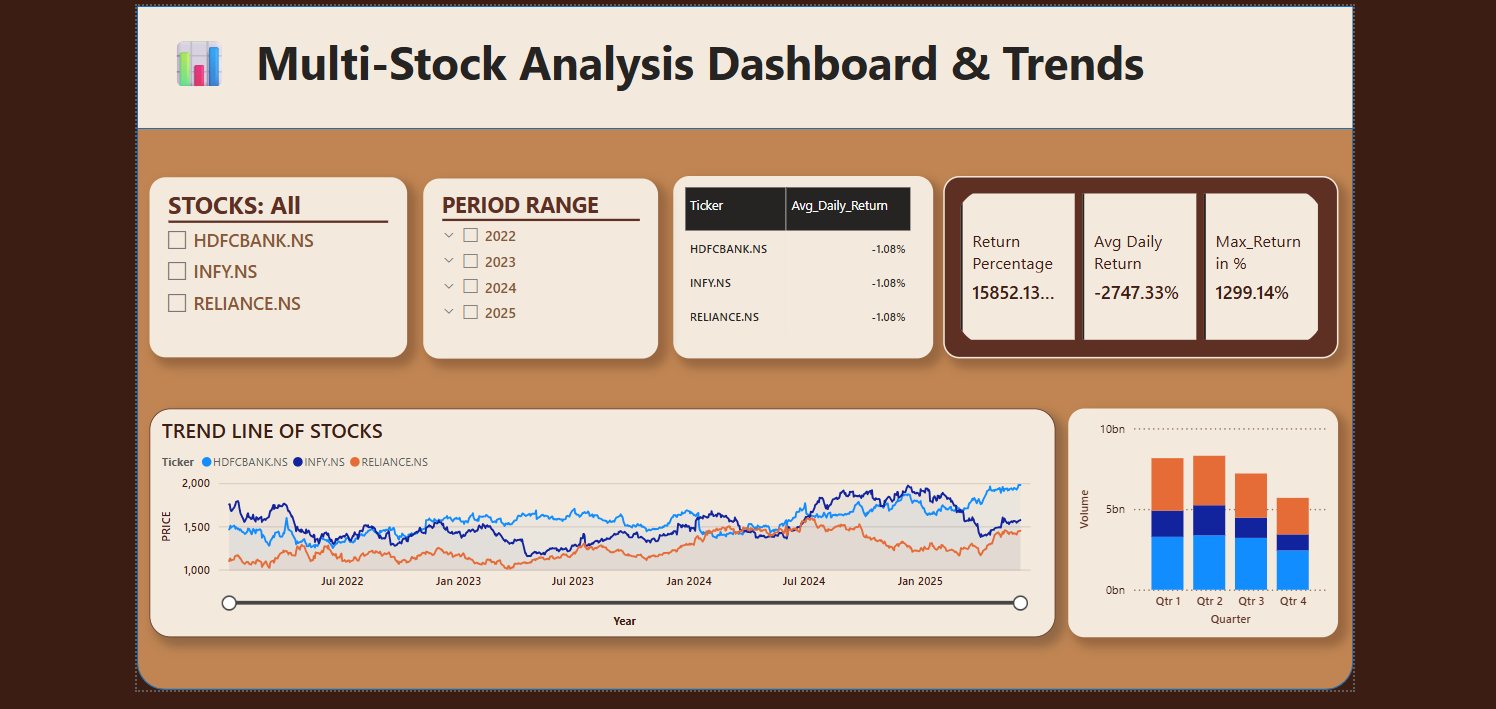

The page's visual inventory and layout, read from the dashboard file:
{"tool":"powerbi","page":{"name":"Page 1","canvas":[1280,720],"ordinal":0},"visuals":[{"type":"shape","box":[0,0,1280.3,719.7],"z":0},{"type":"shape","box":[0,0,1280.4,129.4],"z":1000},{"type":"textbox","title":"Visualize  Stock Analytics","box":[27.6,21.1,1236.8,86.8],"z":2000},{"type":"tableEx","fields":{"Values":["average return.Ticker","stock_data.Avg_Daily_Return"]},"box":[564.5,178.9,273.7,192.1],"z":3000},{"type":"lineChart","title":"TREND LINE OF STOCKS","fields":{"Category":["stock_data.Date.Variation.Date Hierarchy.Year","stock_data.Date.Variation.Date Hierarchy.Quarter","stock_data.Date.Variation.Date Hierarchy.Month","stock_data.Date.Variation.Date Hierarchy.Day"],"Y":["Avg(stock_data.Close)"],"Series":["stock_data.Ticker"]},"box":[13.2,423.7,953.9,240.8],"z":4000},{"type":"columnChart","fields":{"Category":["stock_data.Date.Variation.Date Hierarchy.Year","stock_data.Date.Variation.Date Hierarchy.Quarter","stock_data.Date.Variation.Date Hierarchy.Month","stock_data.Date.Variation.Date Hierarchy.Day"],"Series":["stock_data.Ticker"],"Y":["Sum(stock_data.Volume)"]},"box":[980.3,423.7,284.2,240.8],"z":5000},{"type":"slicer","fields":{"Values":["stock_data.Ticker"]},"box":[13.2,180.3,271.1,189.5],"z":6000},{"type":"slicer","fields":{"Values":["stock_data.Date.Variation.Date Hierarchy.Year","stock_data.Date.Variation.Date Hierarchy.Quarter","stock_data.Date.Variation.Date Hierarchy.Month","stock_data.Date.Variation.Date Hierarchy.Day"]},"box":[301.3,181.6,247.4,189.5],"z":7000},{"type":"cardVisual","fields":{"Data":["Sum(stock_data.Return_Percent)","Sum(stock_data.Avg_Daily_Return)","Sum(stock_data.Max_Return)"]},"box":[848.7,178.9,415.8,192.1],"z":8000}]}

Visuals, with their boxes on the page's 1280x720 design canvas (x1, y1, x2, y2). These are canvas units, not pixel positions in the 1496x709 screenshot, which may show the page scaled, cropped or inside an application window:
shape: (0,0,1280,720)
shape: (0,0,1280,129)
"Visualize  Stock Analytics" textbox: (28,21,1264,108)
tableEx - average return.Ticker x stock_data.Avg_Daily_Return: (564,179,838,371)
"TREND LINE OF STOCKS" lineChart: (13,424,967,664)
columnChart - stock_data.Date.Variation.Date Hierarchy.Year x stock_data.Date.Variation.Date Hierarchy.Quarter: (980,424,1264,664)
slicer - stock_data.Ticker: (13,180,284,370)
slicer - stock_data.Date.Variation.Date Hierarchy.Year x stock_data.Date.Variation.Date Hierarchy.Quarter: (301,182,549,371)
cardVisual - Sum(stock_data.Return_Percent) x Sum(stock_data.Avg_Daily_Return): (849,179,1264,371)
